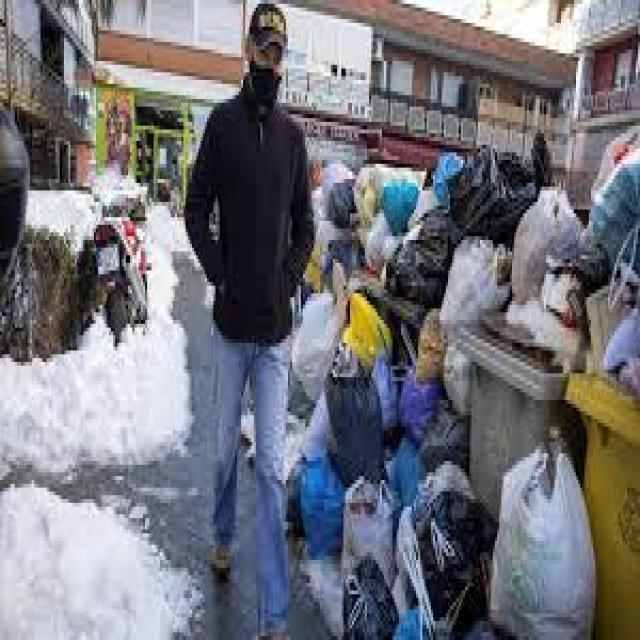garbage: (308, 140, 640, 639)
